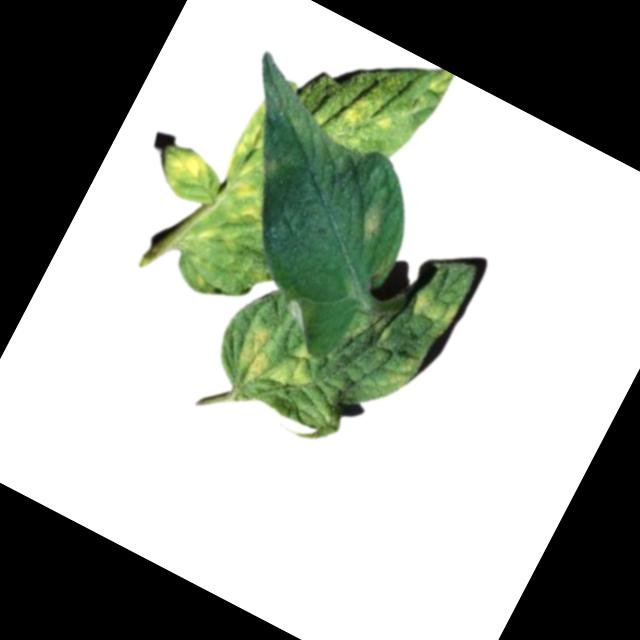Leaf_Mold: (183, 101, 309, 269), (224, 313, 326, 409), (335, 82, 400, 145), (152, 139, 213, 196), (406, 282, 460, 330), (382, 349, 420, 395), (353, 207, 387, 247), (419, 64, 455, 101)
